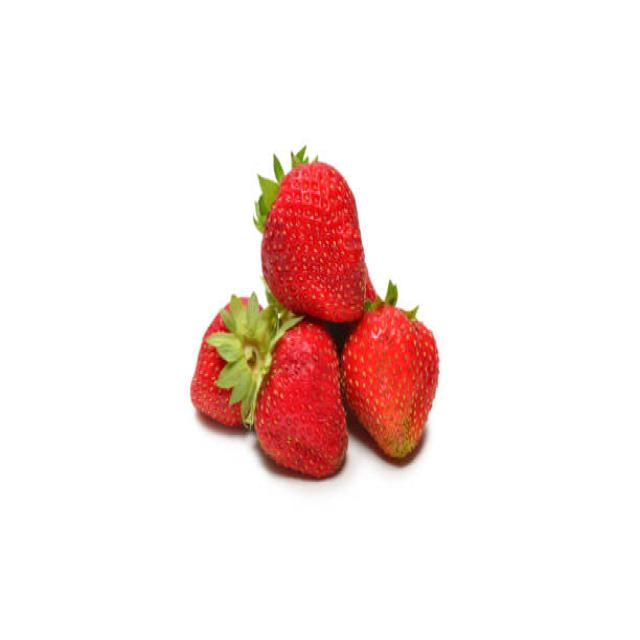Healthy Fruit: (259, 162, 366, 321), (342, 300, 440, 461), (255, 324, 347, 478), (189, 294, 263, 422)
